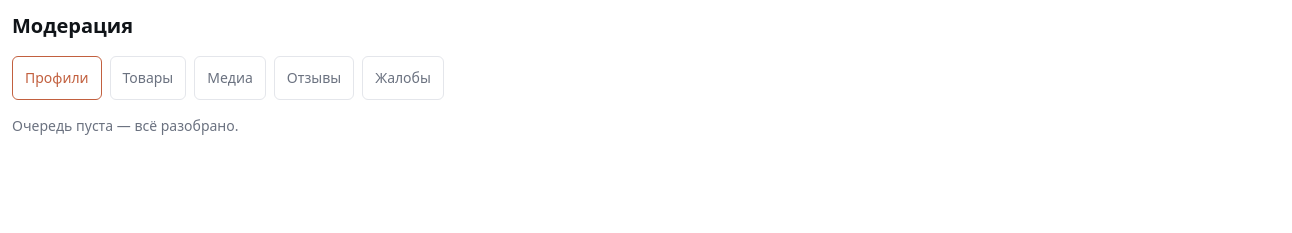
Scenario: ModerationPage › жалоба показывает контекст и закрывается решением
The image size is (1292, 233).
Later steps or results of the test are not shown.
Click the tab "Жалобы" at x=403, y=78, box [362,56,444,100]
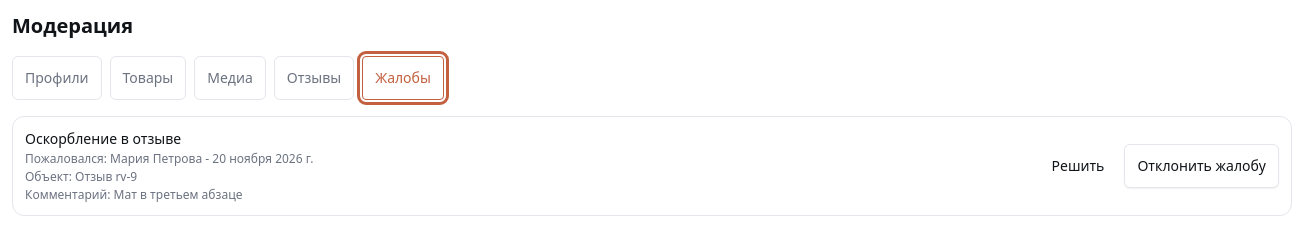
Check: the text "Оскорбление в отзыве" is shown, box [25,129,181,148]
Check: the text "Пожаловался: Мария Петрова - 20 ноября 2026 г." is shown, box [25,151,314,167]
Check: the text "Объект: Отзыв rv-9" is shown, box [25,168,137,185]
